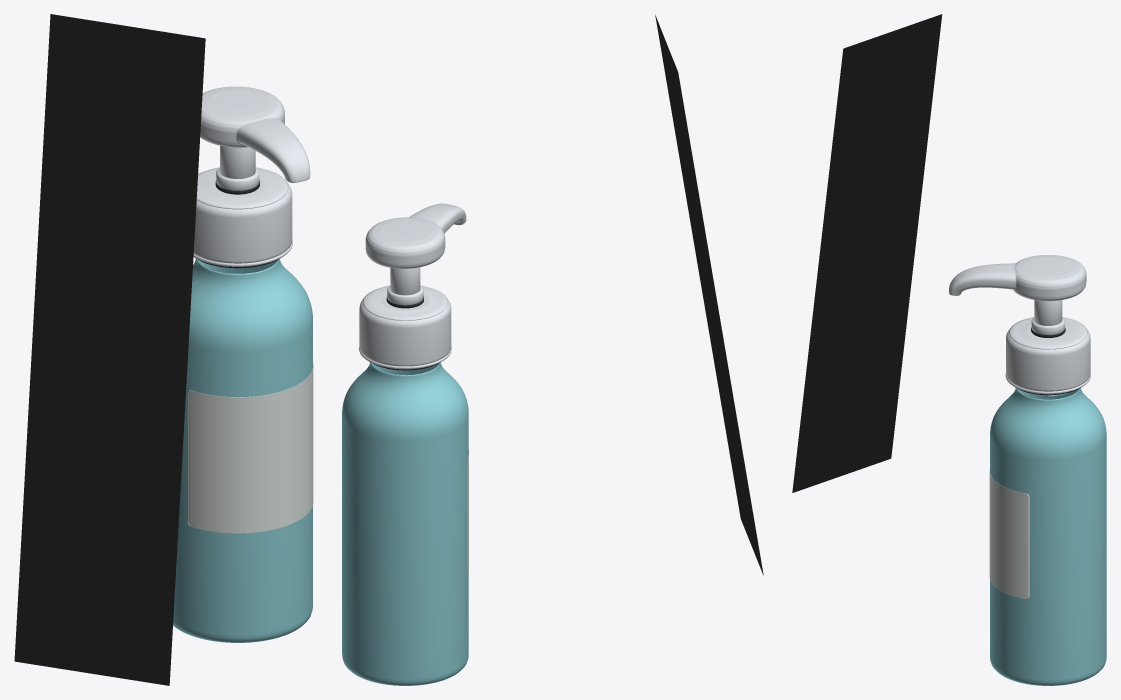
3 views of the same model, side by side, from view 1: azimuth 30°, elevation 25°; view 2: azimuth 150°, elevation 25°; view 3: azimuth 270°, elevation 25° (orthographic). The views are drawn at different scales.
Visible parts, largest first — view 1: FLAG • narrow graphite / reflections only.001, Bottle • Ø40 × 105 | hollow frosted body + rounded shoulde, Label • BLANK | 50 mm arc × 40 mm high.001, Pump • unified brushed actuator + curved nozzle.001, Pump • brushed screw collar | Ø29 × 17.001, Pump • upper machined edge.001, Pump • telescoping polished stem.001, Pump • brushed stem base.001; view 2: Bottle • Ø40 × 105 | hollow frosted body + rounded shoulde, FLAG • narrow graphite / reflections only.001, Pump • brushed screw collar | Ø29 × 17.001, Pump • unified brushed actuator + curved nozzle.001, Pump • upper machined edge.001, Pump • telescoping polished stem.001; view 3: FLAG • narrow graphite / reflections only.001, Bottle • Ø40 × 105 | hollow frosted body + rounded shoulde, Pump • unified brushed actuator + curved nozzle.001, Label • BLANK | 50 mm arc × 40 mm high.001, Pump • brushed screw collar | Ø29 × 17.001, Pump • upper machined edge.001, Pump • telescoping polished stem.001.
Boxes of the visible parts, x1,y1,x2,y2 form: FLAG • narrow graphite / reflections only.001: (14,14,205,685); Bottle • Ø40 × 105 | hollow frosted body + rounded shoulde: (173,259,312,642); Label • BLANK | 50 mm arc × 40 mm high.001: (188,362,313,533); Pump • unified brushed actuator + curved nozzle.001: (200,86,310,182); Pump • brushed screw collar | Ø29 × 17.001: (193,177,292,263); Pump • upper machined edge.001: (196,167,288,209); Pump • telescoping polished stem.001: (220,145,255,178); Pump • brushed stem base.001: (216,167,259,190); Bottle • Ø40 × 105 | hollow frosted body + rounded shoulde: (342,362,468,685); FLAG • narrow graphite / reflections only.001: (655,15,763,575); Pump • brushed screw collar | Ø29 × 17.001: (359,294,451,366); Pump • unified brushed actuator + curved nozzle.001: (365,203,466,268); Pump • upper machined edge.001: (362,285,447,320); Pump • telescoping polished stem.001: (390,267,420,295); FLAG • narrow graphite / reflections only.001: (792,14,942,492); Bottle • Ø40 × 105 | hollow frosted body + rounded shoulde: (990,388,1106,685); Pump • unified brushed actuator + curved nozzle.001: (949,255,1086,301); Label • BLANK | 50 mm arc × 40 mm high.001: (989,468,1029,599); Pump • brushed screw collar | Ø29 × 17.001: (1006,325,1090,391); Pump • upper machined edge.001: (1009,317,1087,349); Pump • telescoping polished stem.001: (1034,300,1062,325).
Bounding box in the file's own units: 0.1196 × 0.2089 × 0.1077.
